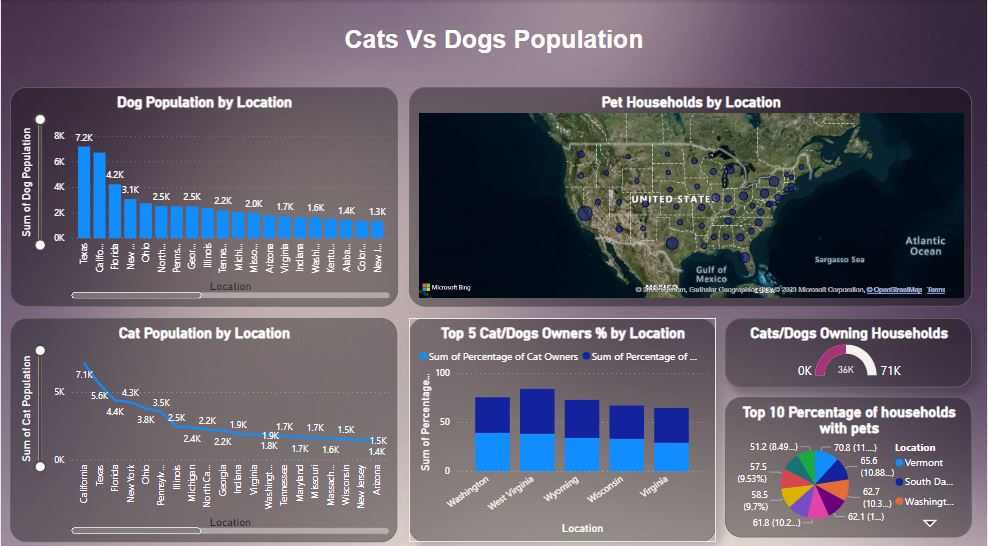

What the dashboard file says about the page in this screenshot:
{"tool":"powerbi","page":{"name":"Cats Vs Dogs Population","canvas":[1306,726],"ordinal":0},"visuals":[{"type":"lineChart","title":"Cat Population by Location","fields":{"Category":["States.Location"],"Y":["Sum(States.Cat Population)"]},"box":[12.3,421.6,513.4,297.1],"z":0},{"type":"pieChart","title":"Top 10 Percentage of households with pets ","fields":{"Y":["Sum(States.Percentage of households with pets)"],"Category":["States.Location"]},"box":[959.6,525.7,327.2,186.2],"z":1000},{"type":"map","title":"Pet Households  by Location","fields":{"Size":["Sum(States.Pet Households )"],"Category":["States.Location"]},"box":[540.5,115.3,745.9,291.5],"z":2000},{"type":"clusteredColumnChart","title":"Dog Population  by Location","fields":{"Category":["States.Location"],"Y":["Sum(States.Dog Population )"]},"box":[11.9,115.3,514,291.5],"z":3000},{"type":"gauge","title":"Cats/Dogs Owning Households","fields":{"Y":["Sum(States.Cat Owning Households)"]},"box":[959.6,421.6,327.2,91.7],"z":3001},{"type":"lineStackedColumnComboChart","title":"Top 5 Cat/Dogs  Owners % by Location","fields":{"Y":["Sum(States.Percentage of Cat Owners)","Sum(States.Percentage of Dog Owners)"],"Category":["States.Location"]},"box":[540.7,421.6,406.6,297.1],"z":3002},{"type":"textbox","title":"Cats  Vs Dogs Population","box":[318,33.1,670.4,64.9],"z":3003}]}

Visuals, with their boxes in screenshot pixels (x1, y1, x2, y2), scaled from the page's 1306x726 canvas onto the 988x546 screenshot:
"Cat Population by Location" lineChart: [9, 317, 398, 541]
"Top 10 Percentage of households with pets " pieChart: [726, 395, 973, 535]
"Pet Households  by Location" map: [409, 87, 973, 306]
"Dog Population  by Location" clusteredColumnChart: [9, 87, 398, 306]
"Cats/Dogs Owning Households" gauge: [726, 317, 973, 386]
"Top 5 Cat/Dogs  Owners % by Location" lineStackedColumnComboChart: [409, 317, 717, 541]
"Cats  Vs Dogs Population" textbox: [241, 25, 748, 74]
